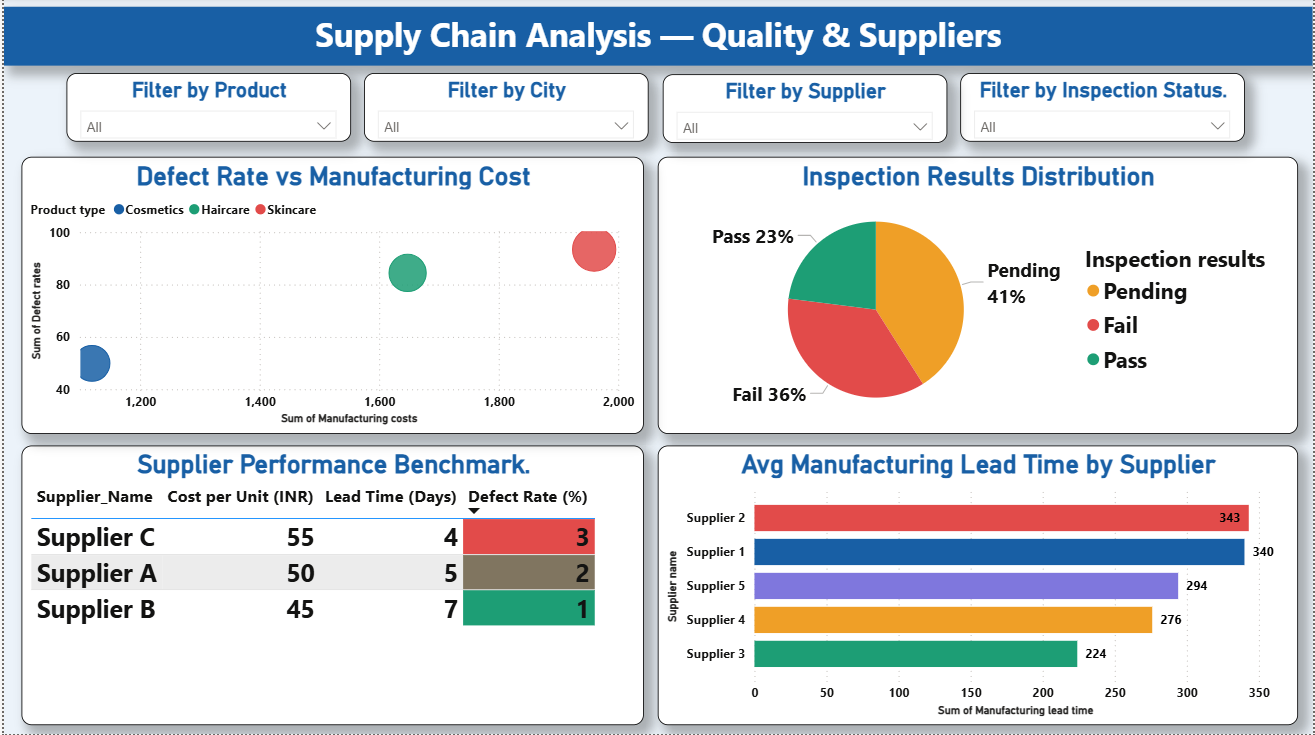

This screenshot's page, from the dashboard's own definition file:
{"tool":"powerbi","page":{"name":"Quality & Suppliers","canvas":[1280,720],"ordinal":2},"visuals":[{"type":"pieChart","title":"Inspection Results Distribution","fields":{"Category":["SupplyChain.Inspection results"],"Y":["CountNonNull(SupplyChain.SKU)"]},"box":[639.5,155.3,626.1,271.5],"z":0},{"type":"tableEx","title":"Supplier Performance Benchmark.","fields":{"Values":["SupplierPerf.Supplier_Name","Sum(SupplierPerf.Cost_per_Unit_INR)","Sum(SupplierPerf.Lead_Time_Days)","Sum(SupplierPerf.Defect_Rate_Percent)"]},"box":[17.1,437.8,609,273.9],"z":1000},{"type":"scatterChart","title":"Defect Rate vs Manufacturing Cost","fields":{"X":["Sum(SupplyChain.Manufacturing costs)"],"Y":["Sum(SupplyChain.Defect rates)"],"Series":["SupplyChain.Product type"],"Size":["Sum(SupplyChain.Revenue generated)"]},"box":[17.1,155.3,609,271.5],"z":2000},{"type":"clusteredBarChart","title":"Avg Manufacturing Lead Time by Supplier","fields":{"Y":["Sum(SupplyChain.Manufacturing lead time)"],"Category":["SupplyChain.Supplier name"]},"box":[639.5,437.8,626.1,273.9],"z":3000},{"type":"textbox","box":[0,8.6,1280.3,57.5],"z":4000},{"type":"slicer","title":"Filter by Inspection Status.","fields":{"Values":["SupplyChain.Inspection results"]},"box":[935.8,73.6,278,67],"z":5000},{"type":"slicer","title":"Filter by Product","fields":{"Values":["SupplyChain.Product type"]},"box":[60.9,73.6,278,67],"z":6000},{"type":"slicer","title":"Filter by City","fields":{"Values":["SupplyChain.Location"]},"box":[352.5,73.6,278,67],"z":7000},{"type":"slicer","title":"Filter by Supplier","fields":{"Values":["SupplyChain.Supplier name"]},"box":[644.1,74,278,67],"z":8000}]}

Visuals, with their boxes in screenshot pixels (x1, y1, x2, y2), scaled from the page's 1280x720 canvas onto the 1315x735 screenshot:
"Inspection Results Distribution" pieChart: <region>657, 159, 1300, 436</region>
"Supplier Performance Benchmark." tableEx: <region>18, 447, 643, 727</region>
"Defect Rate vs Manufacturing Cost" scatterChart: <region>18, 159, 643, 436</region>
"Avg Manufacturing Lead Time by Supplier" clusteredBarChart: <region>657, 447, 1300, 727</region>
textbox: <region>0, 9, 1314, 67</region>
"Filter by Inspection Status." slicer: <region>961, 75, 1247, 144</region>
"Filter by Product" slicer: <region>63, 75, 348, 144</region>
"Filter by City" slicer: <region>362, 75, 648, 144</region>
"Filter by Supplier" slicer: <region>662, 76, 947, 144</region>
